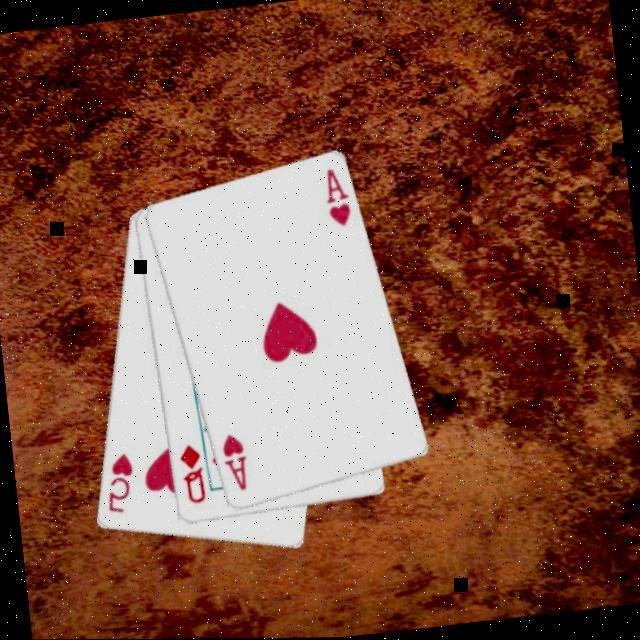5H: (97, 448, 139, 516)
AH: (215, 428, 252, 495), (317, 162, 354, 229)
QD: (173, 438, 208, 506)
